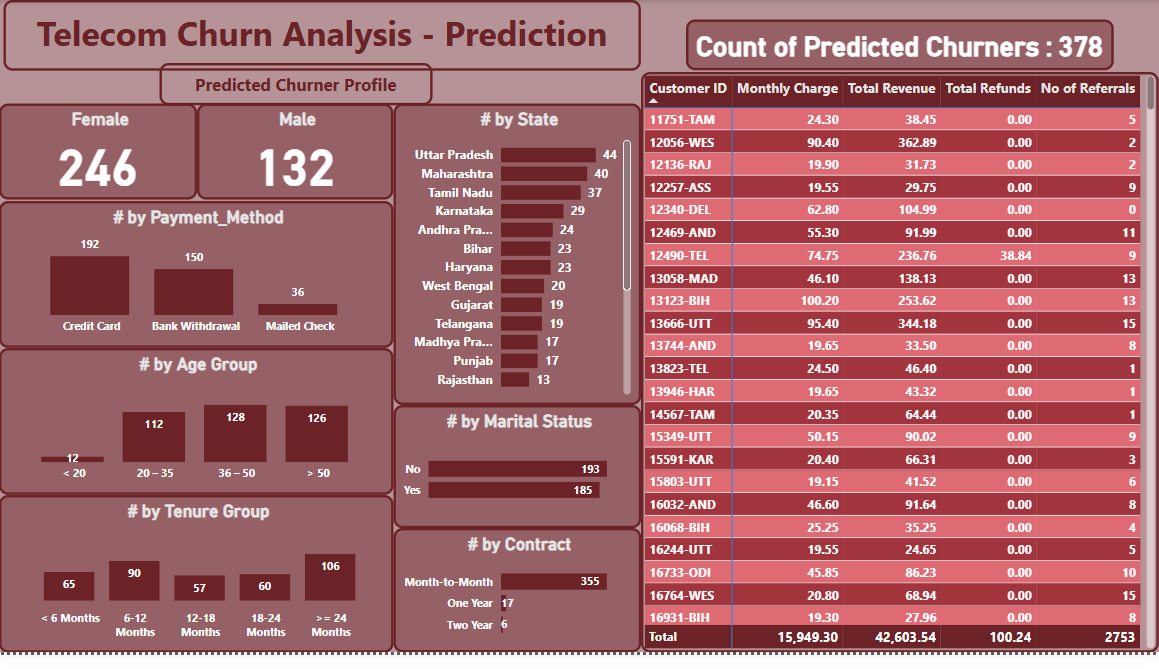

This screenshot's page, from the dashboard's own definition file:
{"tool":"powerbi","page":{"name":"Churn Prediction","canvas":[1280,720],"ordinal":2},"visuals":[{"type":"textbox","box":[5,0,703.5,77.8],"z":15000},{"type":"clusteredColumnChart","title":"# by Age Group","fields":{"Category":["mapping_AgeGrp.Age Group"],"Y":["CountNonNull(Predictions.Customer_ID)"]},"box":[0,384,435.3,162.2],"z":15001},{"type":"clusteredBarChart","title":"# by Marital Status","fields":{"Category":["Predictions.Married"],"Y":["CountNonNull(Predictions.Customer_ID)"]},"box":[435.3,446.9,273.1,135.7],"z":15002},{"type":"clusteredColumnChart","title":"# by Tenure Group","fields":{"Y":["CountNonNull(Predictions.Customer_ID)"],"Category":["mapping_TenureGrp.Tenure Group"]},"box":[0,546.2,435.3,173.8],"z":15003},{"type":"clusteredColumnChart","title":"# by Payment_Method","fields":{"Y":["CountNonNull(Predictions.Customer_ID)"],"Category":["Predictions.Payment_Method"]},"box":[0,221.8,435.3,162.2],"z":15004},{"type":"clusteredBarChart","title":"# by Contract","fields":{"Category":["Predictions.Contract"],"Y":["CountNonNull(Predictions.Customer_ID)"]},"box":[435.3,582.6,273.1,137.4],"z":15005},{"type":"clusteredBarChart","title":"# by State","fields":{"Category":["Predictions.State"],"Y":["CountNonNull(Predictions.Customer_ID)"]},"box":[435.3,114.2,273.1,332.7],"z":15006},{"type":"pivotTable","fields":{"Rows":["Predictions.Customer_ID"],"Values":["Sum(Predictions.Monthly_Charge)","Sum(Predictions.Total_Revenue)","Sum(Predictions.Total_Refunds)","Sum(Predictions.Number_of_Referrals)"]},"box":[708.4,79.4,571,640.6],"z":15007},{"type":"card","fields":{"Values":["DAX Measures.Title Predicted Churner"]},"box":[758.1,21.5,471.7,56.3],"z":15008},{"type":"card","title":"Female","fields":{"Values":["DAX Measures.Count Predicted Churner"]},"box":[0,114.2,218.5,105.9],"z":15009},{"type":"card","title":"Male","fields":{"Values":["DAX Measures.Count Predicted Churner"]},"box":[218.5,114.2,216.8,105.9],"z":15010},{"type":"textbox","box":[177.1,69.5,301.2,46.3],"z":15011}]}

Visuals, with their boxes in screenshot pixels (x1, y1, x2, y2), scaled from the page's 1280x720 canvas onto the 1159x669 screenshot:
textbox: <box>5,0,642,72</box>
"# by Age Group" clusteredColumnChart: <box>0,357,394,508</box>
"# by Marital Status" clusteredBarChart: <box>394,415,641,541</box>
"# by Tenure Group" clusteredColumnChart: <box>0,508,394,668</box>
"# by Payment_Method" clusteredColumnChart: <box>0,206,394,357</box>
"# by Contract" clusteredBarChart: <box>394,541,641,668</box>
"# by State" clusteredBarChart: <box>394,106,641,415</box>
pivotTable - Predictions.Customer_ID x Sum(Predictions.Monthly_Charge): <box>641,74,1158,668</box>
card - DAX Measures.Title Predicted Churner: <box>686,20,1114,72</box>
"Female" card: <box>0,106,198,205</box>
"Male" card: <box>198,106,394,205</box>
textbox: <box>160,65,433,108</box>
